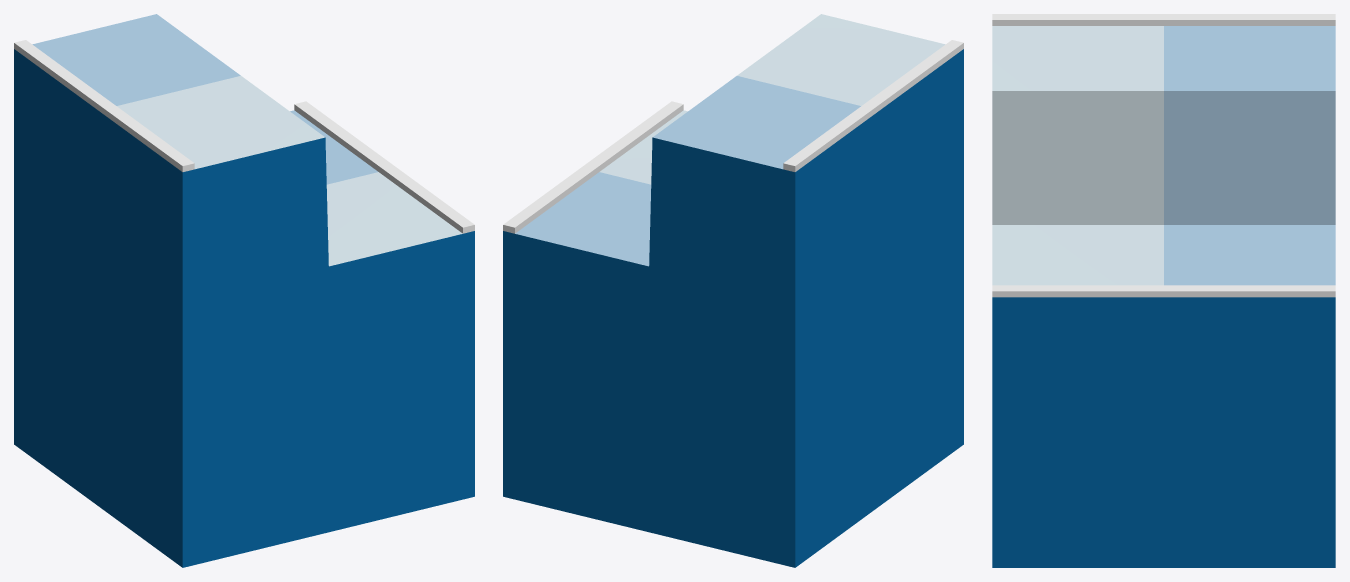
File: W_Road_6.FBX
3 views of the same model, side by side, from view 1: azimuth 30°, elevation 25°; view 2: azimuth 150°, elevation 25°; view 3: azimuth 270°, elevation 25° (orthographic).
Parts seen in each view (by area): view 1: Road_015; view 2: Road_015; view 3: Road_015.
Part boxes in pixels (x1,y1,x2,y2): Road_015: (14,14,474,567); Road_015: (503,14,963,567); Road_015: (992,14,1335,567).
Size of the model in its own units: 503 by 661 by 503.
